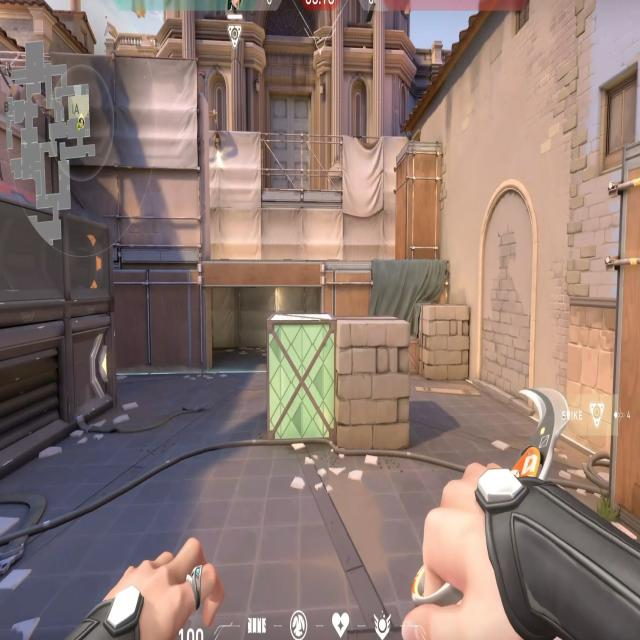A_Heaven_Box: (393, 133, 446, 263)
A_Heaven_Wall: (95, 29, 224, 260)
A_Hell: (194, 247, 328, 378)
A_Site_Box: (265, 308, 414, 466)
